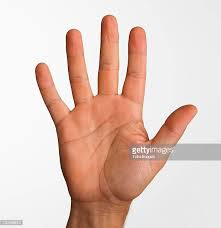palm: (59, 102, 152, 191)
